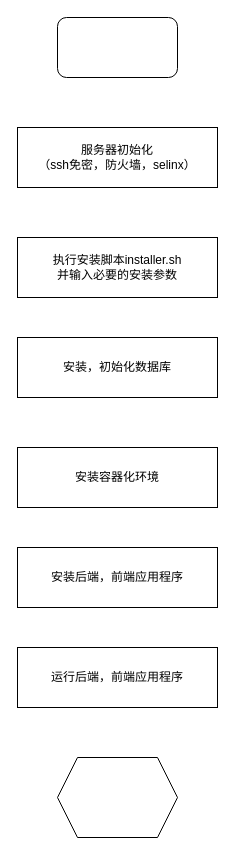
This 235x855 diagram has some shape labels left out. The box of each missing label's shape, as (x1, y1, x2, y2) in pixels:
上传安装包 到安装节点: (56, 16, 178, 78)
安装完成: (56, 756, 178, 838)
